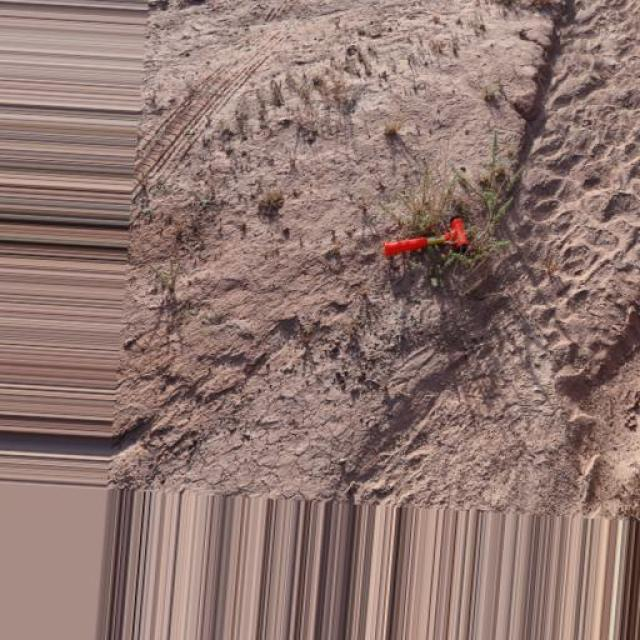mallet: (381, 216, 469, 258)
